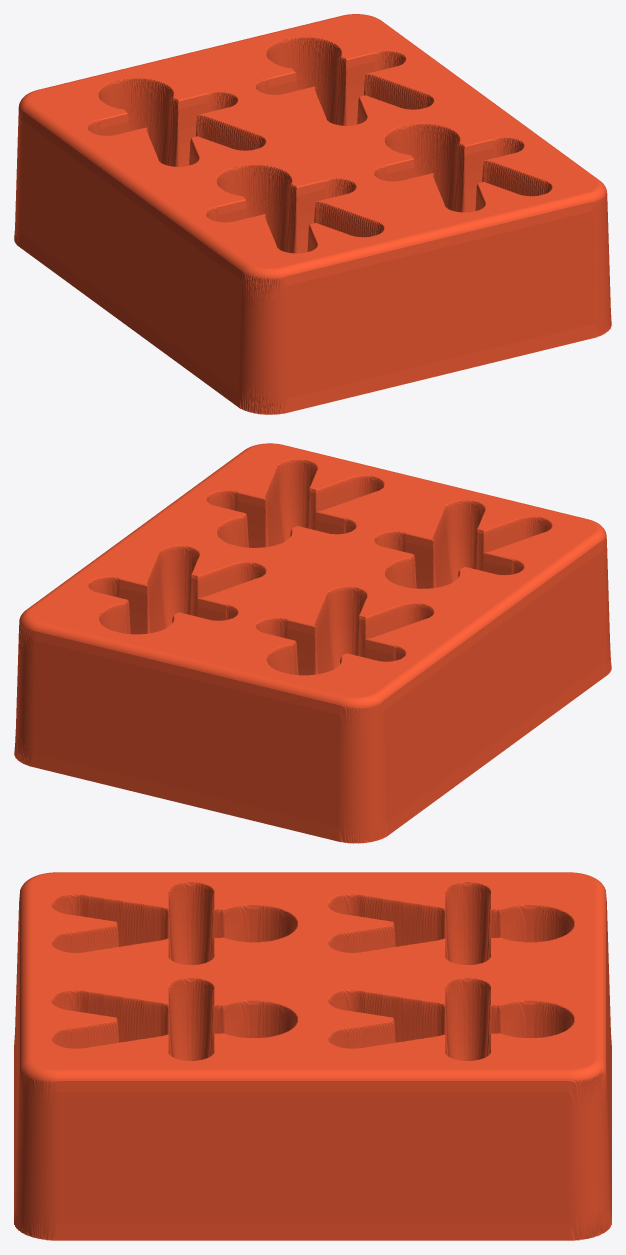
File: mold.glb
The picture shows the model from 3 angles, top to bottom: view 1: azimuth 30°, elevation 25°; view 2: azimuth 150°, elevation 25°; view 3: azimuth 270°, elevation 25°; orthographic projection. The views are drawn at different scales.
Parts seen in each view (by area): view 1: geometry_0; view 2: geometry_0; view 3: geometry_0.
Part boxes in pixels (x1,y1,x2,y2): geometry_0: (14, 14, 611, 414); geometry_0: (14, 443, 611, 843); geometry_0: (14, 872, 611, 1240).
Bounding box in the file's own units: 0.104 × 0.0378 × 0.1248.
